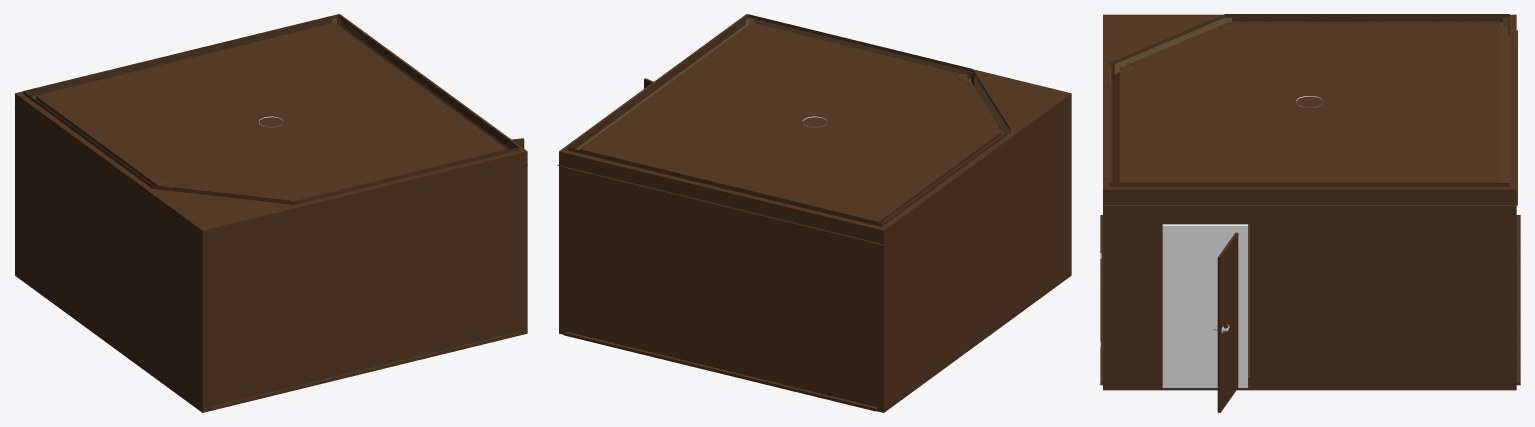
Rendered from Sala detetive com textura.fbx.
3 views of the same model, side by side, from view 1: azimuth 30°, elevation 25°; view 2: azimuth 150°, elevation 25°; view 3: azimuth 270°, elevation 25° (orthographic). The views are drawn at different scales.
Parts seen in each view (by area): view 1: Paredes, teto, Cube.020; view 2: Paredes, teto, Cube.020; view 3: Paredes, teto, CTRL_Hole, Door, Cube.020.
Boxes of the visible parts, box(x1,y1,x2,y2) form: Paredes: box(15, 14, 527, 412); teto: box(14, 14, 527, 204); Cube.020: box(209, 331, 521, 410); Paredes: box(559, 14, 1071, 412); teto: box(557, 14, 1010, 245); Cube.020: box(564, 331, 877, 411); Paredes: box(1103, 14, 1516, 390); teto: box(1103, 14, 1517, 205); CTRL_Hole: box(1162, 224, 1247, 387); Door: box(1217, 232, 1238, 412); Cube.020: box(1100, 215, 1520, 385).
Size of the model in its own units: 1151 by 556 by 1016.
